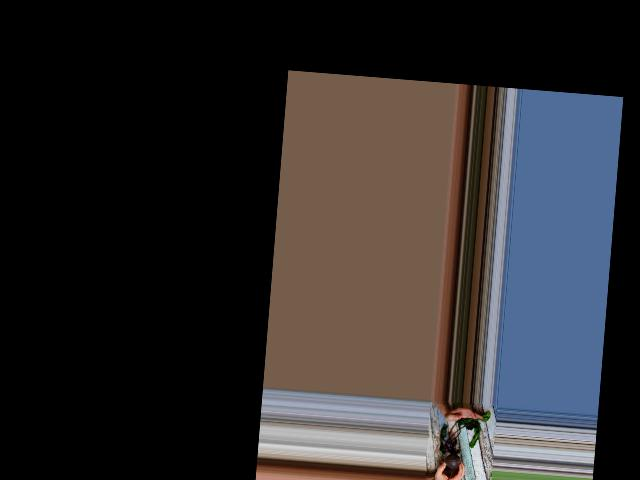beet: (437, 407, 491, 480)
